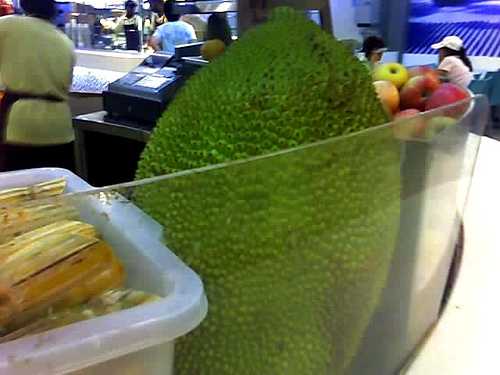jackfruit: (135, 6, 398, 371)
